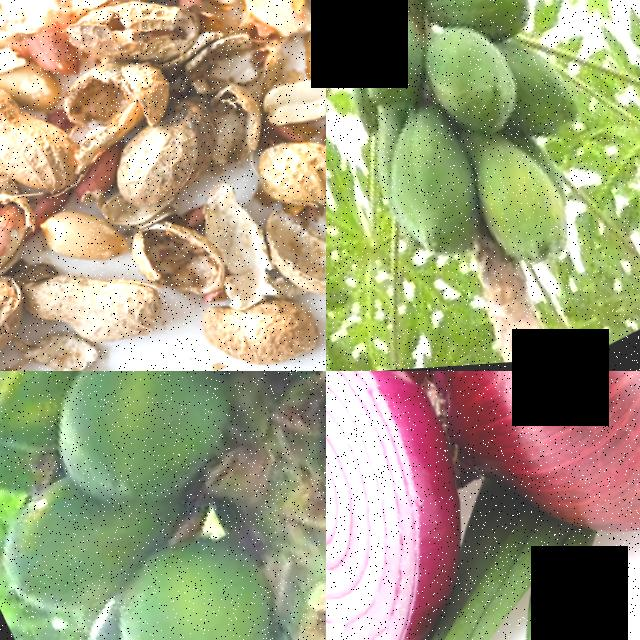onion: (326, 371, 513, 640), (422, 371, 640, 584)
pawpaw: (25, 371, 243, 525), (354, 98, 496, 279), (88, 516, 289, 640), (453, 117, 575, 278), (415, 14, 524, 147), (343, 4, 445, 118), (432, 0, 543, 57)
peanuts: (93, 95, 234, 225), (41, 251, 169, 371), (0, 45, 81, 225), (190, 269, 326, 371), (32, 191, 129, 293), (247, 119, 326, 235)
